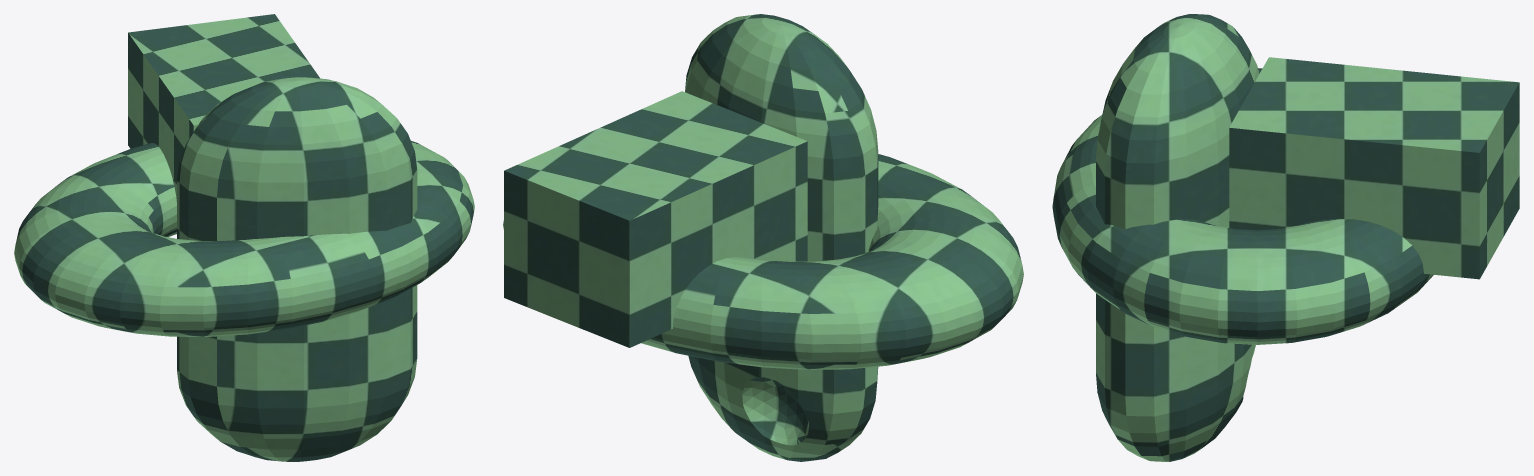
3 views of the same model, side by side, from view 1: azimuth 30°, elevation 25°; view 2: azimuth 150°, elevation 25°; view 3: azimuth 270°, elevation 25° (orthographic). The views are drawn at different scales.
Visible parts, largest first — view 1: geometry_0; view 2: geometry_0; view 3: geometry_0.
Part boxes in pixels (x1,y1,x2,y2): geometry_0: (14, 14, 474, 461); geometry_0: (503, 14, 1023, 461); geometry_0: (1052, 14, 1519, 461).
Bounding box in the file's own units: 1.67 × 1.42 × 1.42.
Materials: 1 (1 with a texture image).
